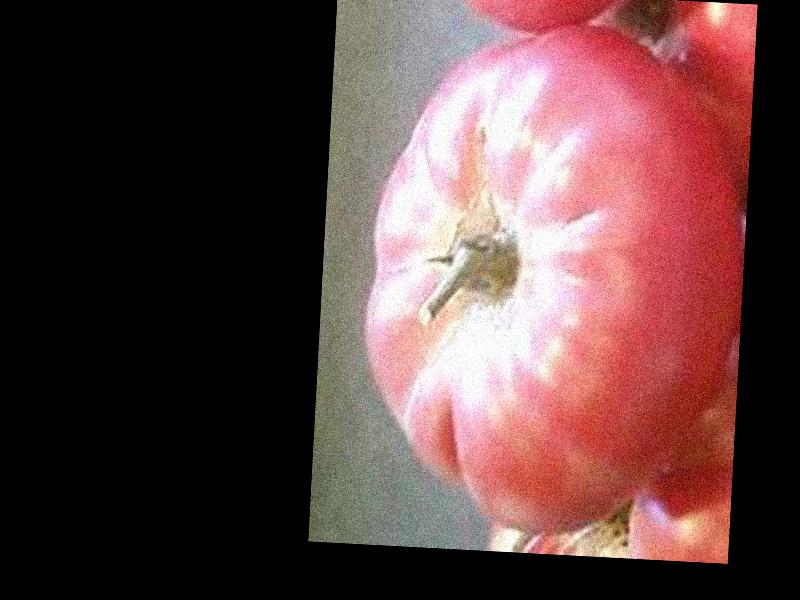Tomato: (356, 14, 753, 546)
